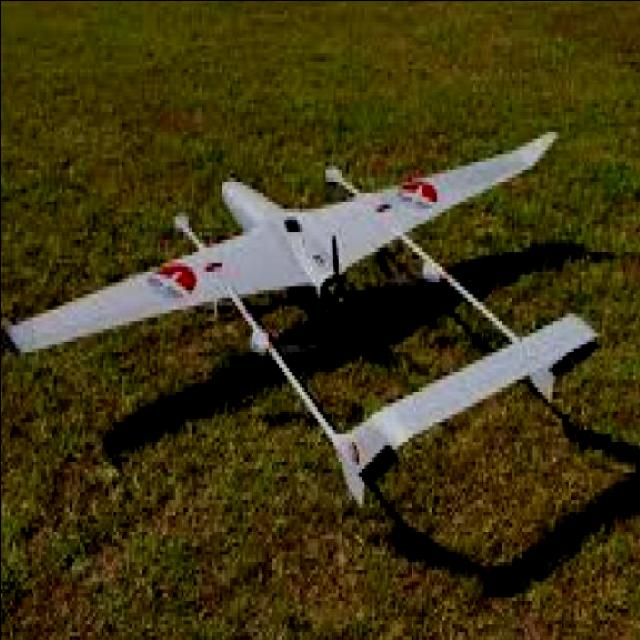plane: (0, 124, 599, 507)
